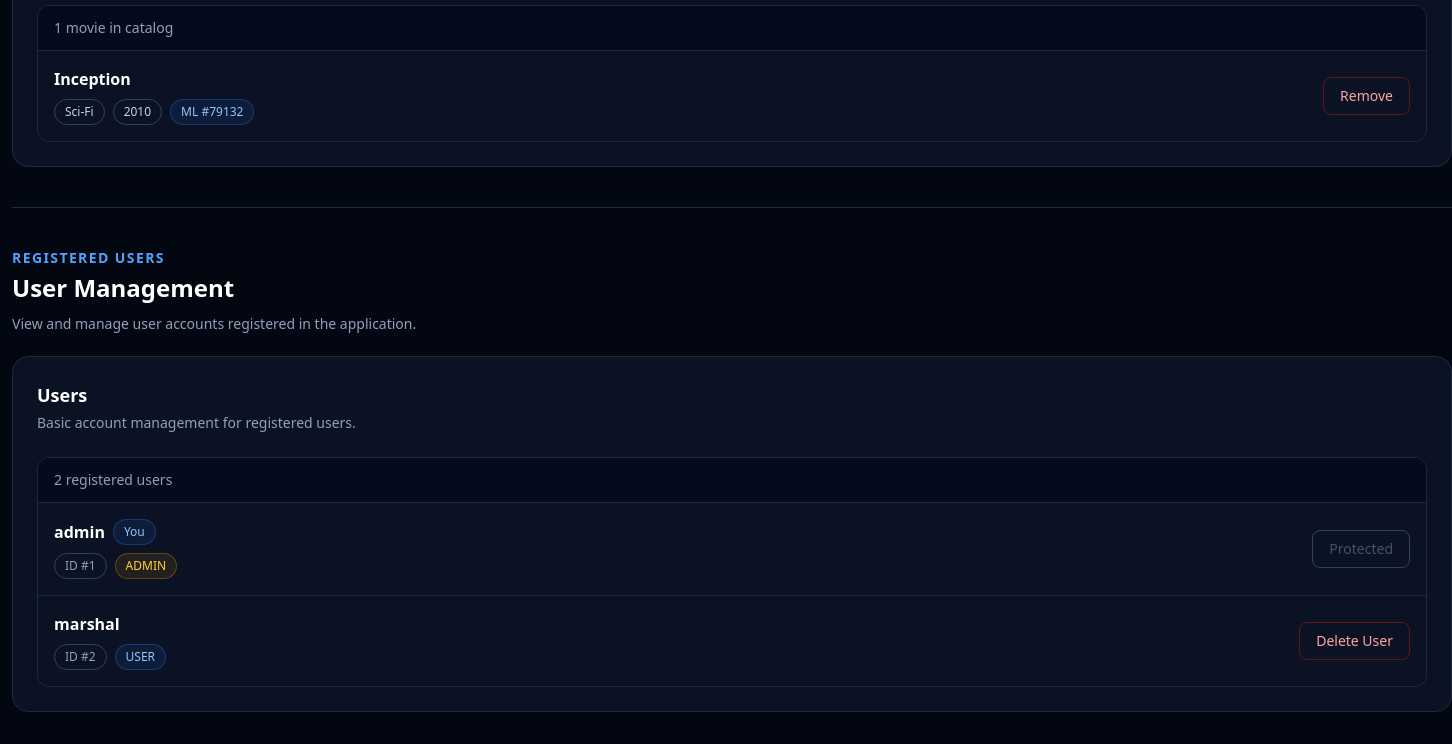
Test case: AdminDashboard › deletes a normal user
(page scrolled)
Expected: the heading "marshal" is shown, [54,612,120,636]
Click the button "Delete User": coordinates (1355, 641) [1299,622,1410,660]
(page scrolled)
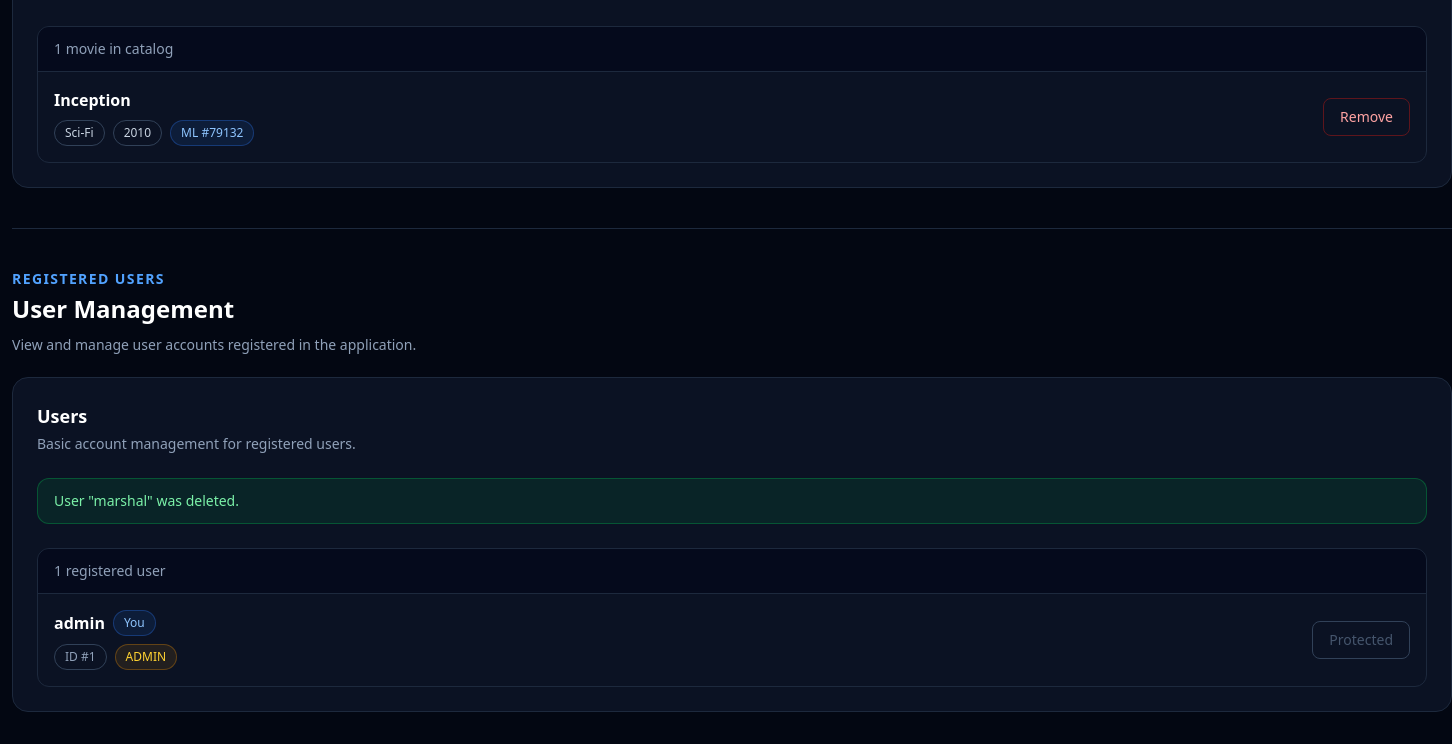
Now the text "User \"marshal\" was deleted." is shown, box [54,491,239,510]
